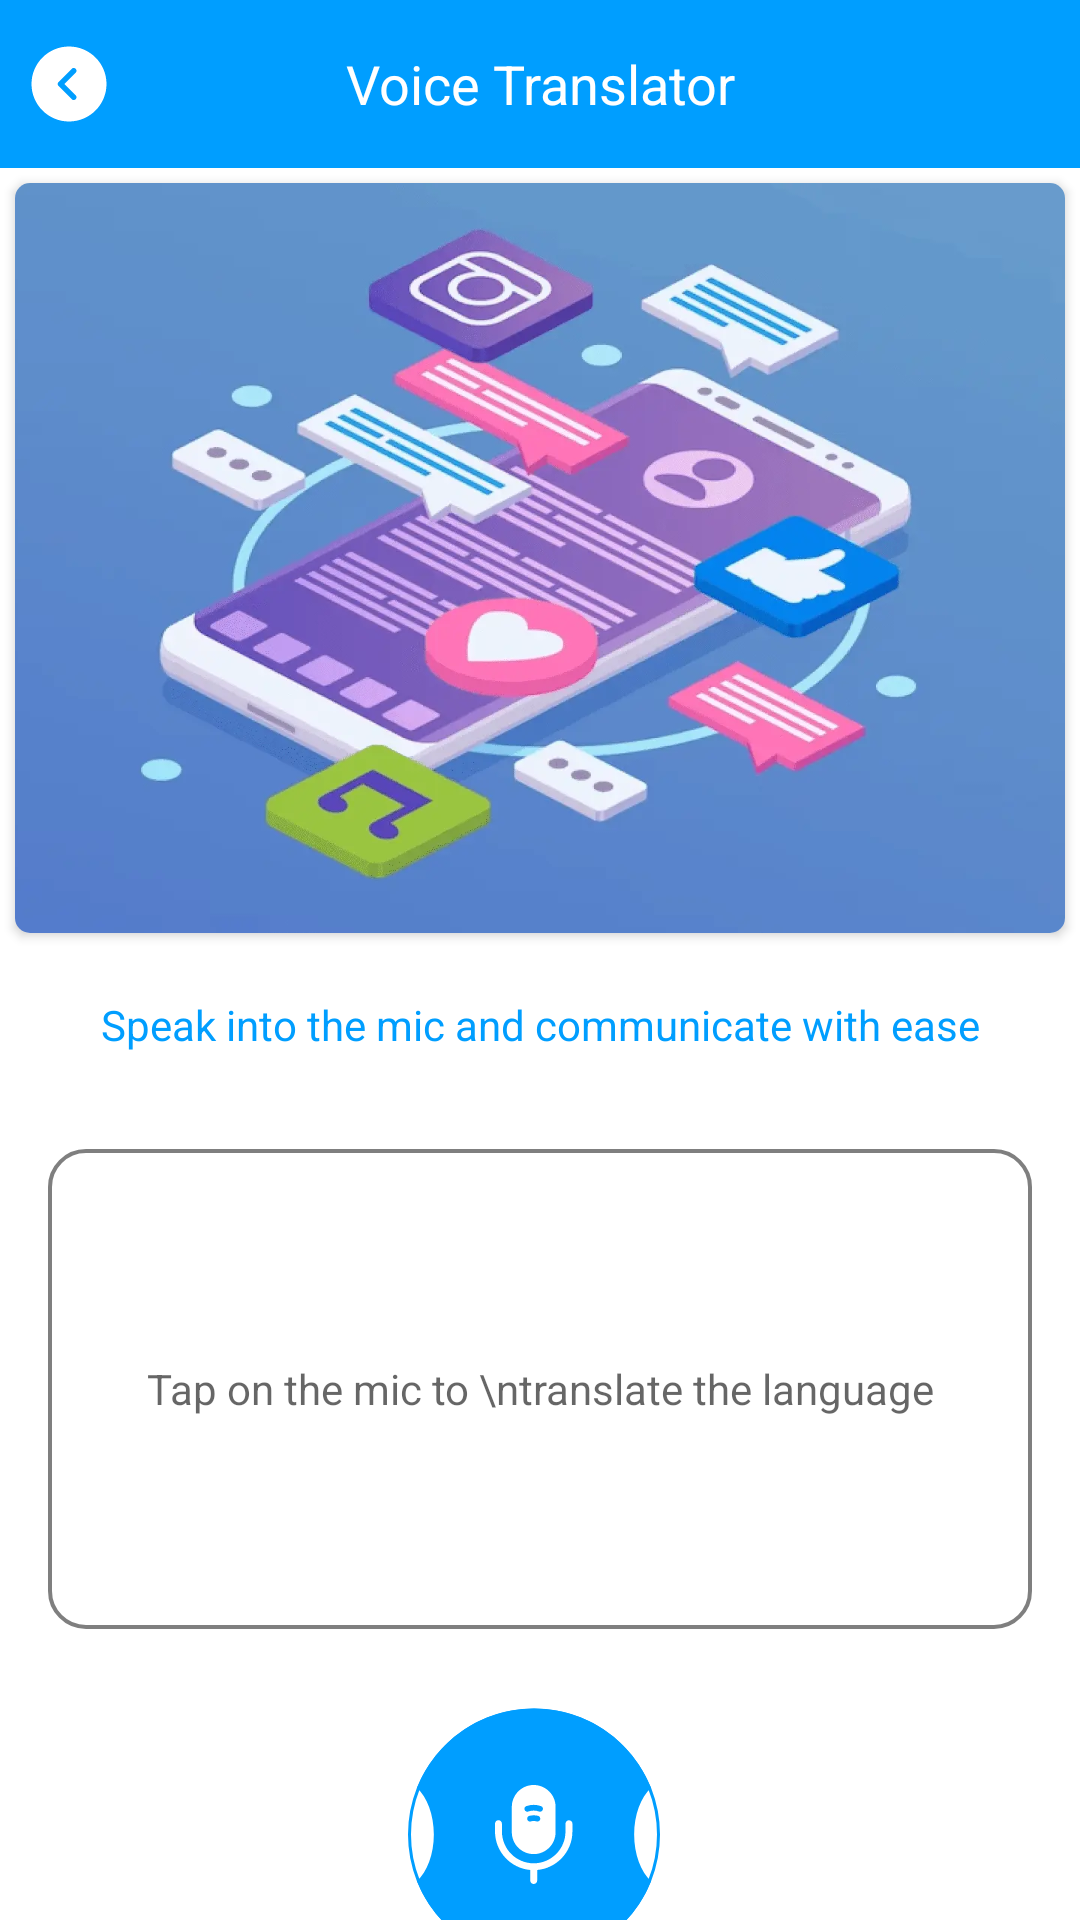

Screen size 1080px x 1920px. Icon name, then its box in pixels as [x1,y1,x2,y2]:
back circle: [31,46,107,122]
